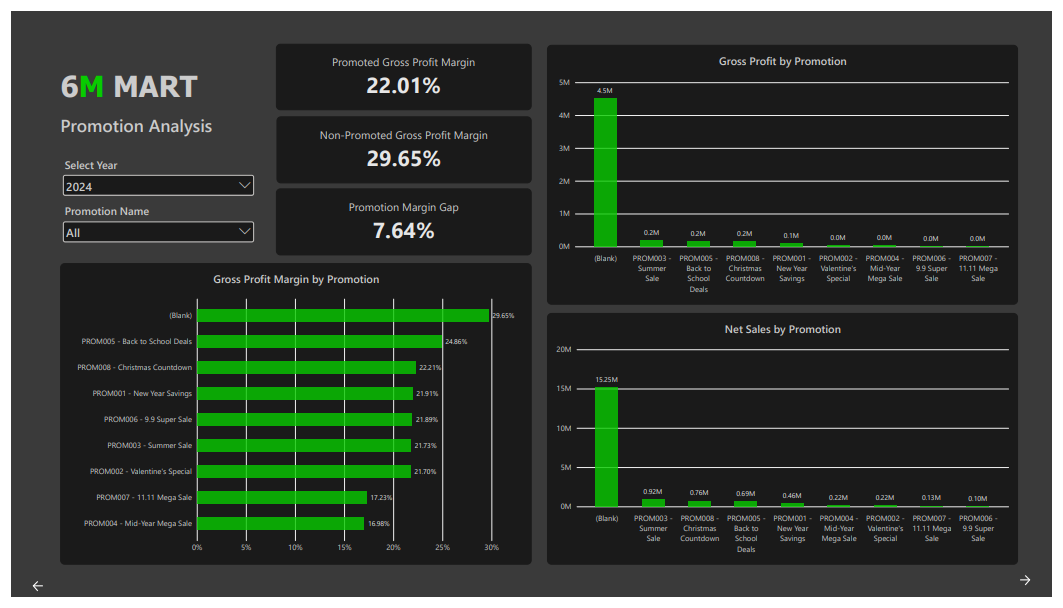

The dashboard page shown, as its layout file describes it:
{"tool":"powerbi","page":{"name":"Promotion Analysis","canvas":[1920,1080],"ordinal":3},"visuals":[{"type":"textbox","box":[91.4,102.9,397.1,157.1],"z":0},{"type":"cardVisual","fields":{"Data":["_Measures.Promoted Gross Profit Margin"]},"box":[488.6,58.6,471.4,122.9],"z":1000},{"type":"cardVisual","fields":{"Data":["_Measures.Promotion Margin Gap"]},"box":[488.6,325.7,471.4,122.9],"z":2000},{"type":"cardVisual","fields":{"Data":["_Measures.Non-Promoted Gross Profit Margin"]},"box":[490,192.9,470,122.9],"z":3000},{"type":"slicer","fields":{"Values":["public dim_date.year"]},"box":[91.4,267.1,361.4,95.7],"z":4000},{"type":"columnChart","title":"Net Sales by Promotion","fields":{"Category":["public dim_promotions.Promotion Label"],"Y":["_Measures.Net Sales"]},"box":[988.6,555.7,868.6,464.3],"z":5000},{"type":"columnChart","title":"Gross Profit by Promotion","fields":{"Category":["public dim_promotions.Promotion Label"],"Y":["_Measures.Gross Profit"]},"box":[988.6,61.4,868.6,478.6],"z":6000},{"type":"clusteredBarChart","title":"Gross Profit Margin by Promotion","fields":{"Category":["public dim_promotions.Promotion Label"],"Y":["_Measures.Gross Profit Margin"]},"box":[91.4,464.3,868.6,555.7],"z":7000},{"type":"actionButton","box":[1820,1028.6,100,40],"z":7001},{"type":"actionButton","box":[0,1040,100,40],"z":7002},{"type":"slicer","fields":{"Values":["public dim_promotions.promotion_name"]},"box":[91.4,352.9,361.4,95.7],"z":7003}]}

Visuals, with their boxes in screenshot pixels (x1, y1, x2, y2), scaled from the page's 1920x1080 canvas onto the 1063x608 screenshot:
textbox: 51, 58, 270, 146
cardVisual - _Measures.Promoted Gross Profit Margin: 271, 33, 532, 102
cardVisual - _Measures.Promotion Margin Gap: 271, 183, 532, 253
cardVisual - _Measures.Non-Promoted Gross Profit Margin: 271, 109, 532, 178
slicer - public dim_date.year: 51, 150, 251, 204
"Net Sales by Promotion" columnChart: 547, 313, 1028, 574
"Gross Profit by Promotion" columnChart: 547, 35, 1028, 304
"Gross Profit Margin by Promotion" clusteredBarChart: 51, 261, 532, 574
actionButton: 1008, 579, 1062, 602
actionButton: 0, 585, 55, 607
slicer - public dim_promotions.promotion_name: 51, 199, 251, 253
